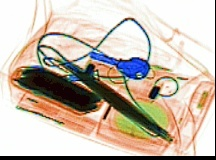powerbank: (9, 64, 103, 116)
